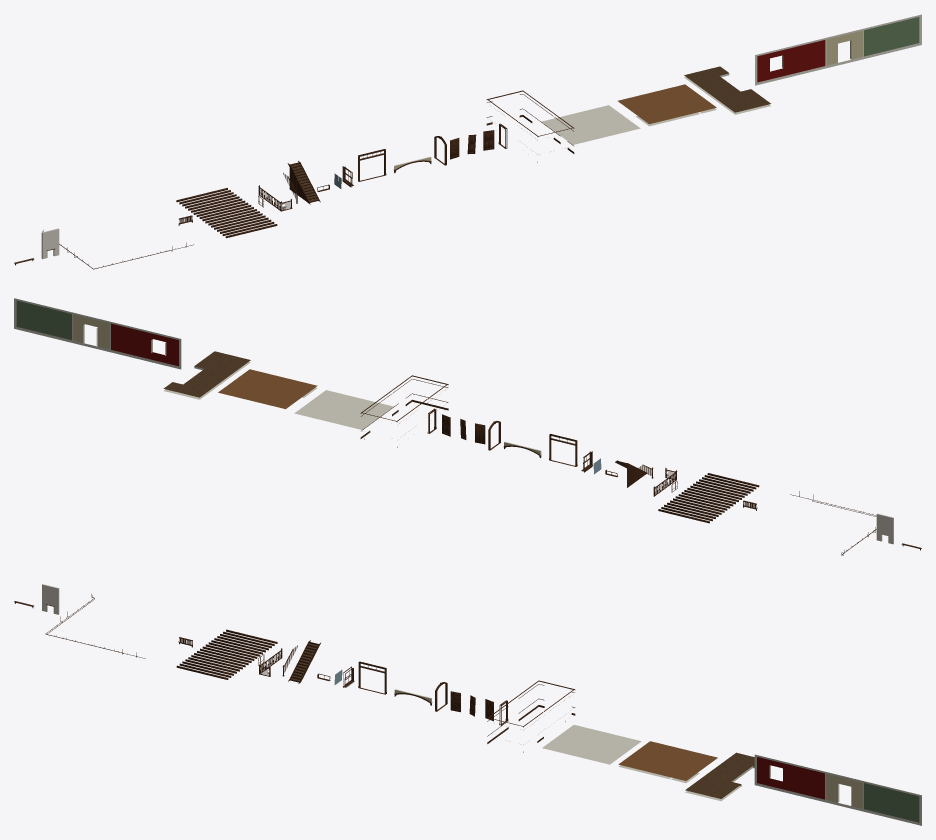
Rendered from Bungalow_Kit.fbx.
3 renders of one model, top to bottom at view 1: azimuth 30°, elevation 25°; view 2: azimuth 150°, elevation 25°; view 3: azimuth 330°, elevation 25°, orthographic.
Visible parts, largest first — view 1: Kit_Wall_Ext_S, Kit_Joists, Kit_Floor_Parquet, Kit_Ceiling, Kit_Floor_PlankRoom, Kit_Stair; view 2: Kit_Wall_Ext_S, Kit_Joists, Kit_Floor_Parquet, Kit_Ceiling, Kit_Floor_PlankRoom, Kit_Mouldings_Hall; view 3: Kit_Wall_Ext_S, Kit_Joists, Kit_Floor_Parquet, Kit_Ceiling, Kit_Floor_PlankRoom, Kit_Mouldings_Hall, Kit_Stair.
Boxes of the visible parts, box(x1,y1,x2,y2) form: Kit_Wall_Ext_S: box(755, 14, 921, 85); Kit_Joists: box(176, 188, 277, 238); Kit_Floor_Parquet: box(618, 84, 716, 126); Kit_Ceiling: box(541, 105, 640, 144); Kit_Floor_PlankRoom: box(684, 66, 770, 114); Kit_Stair: box(287, 161, 320, 204); Kit_Wall_Ext_S: box(14, 298, 181, 369); Kit_Joists: box(658, 473, 759, 523); Kit_Floor_Parquet: box(218, 369, 317, 409); Kit_Ceiling: box(294, 390, 393, 429); Kit_Floor_PlankRoom: box(163, 351, 250, 399); Kit_Mouldings_Hall: box(360, 375, 448, 447); Kit_Wall_Ext_S: box(754, 754, 921, 825); Kit_Joists: box(176, 629, 277, 679); Kit_Floor_Parquet: box(618, 741, 717, 783); Kit_Ceiling: box(542, 725, 641, 764); Kit_Floor_PlankRoom: box(685, 752, 754, 801); Kit_Mouldings_Hall: box(487, 680, 575, 752); Kit_Stair: box(288, 640, 320, 683).
Size of the model in its own units: 109 by 3.5 by 10.62.
